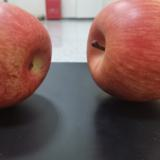apple: (86, 1, 160, 103), (1, 1, 52, 111)
